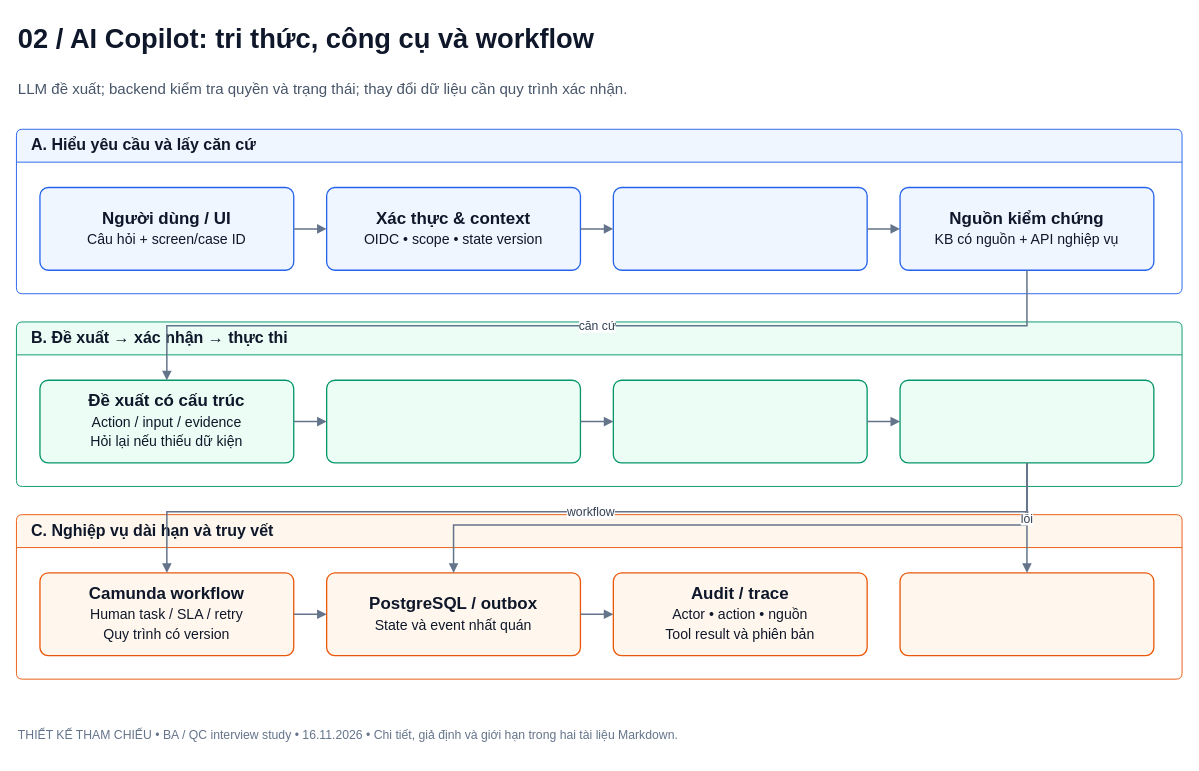
Image size: 1199x771. Some labels were removed from this diagram. The shapes that lost their labels are listed below. From the top down, each one's centre as x and y in pixels, then its label:
At point (739, 228): "LangGraph Intent → read tools / RAG".
At point (453, 421): "Policy validation OPA + business rules allowed-actions từ backend".
At point (739, 421): "Người dùng duyệt Preview • expected version Không tự xác nhận thay người".
At point (1026, 421): "Tool / API commit Recheck quyền + version Idempotency / result check".
At point (1026, 614): "Fallback / hỗ trợ Denied • stale • timeout Không có nguồn → chuyển người".
